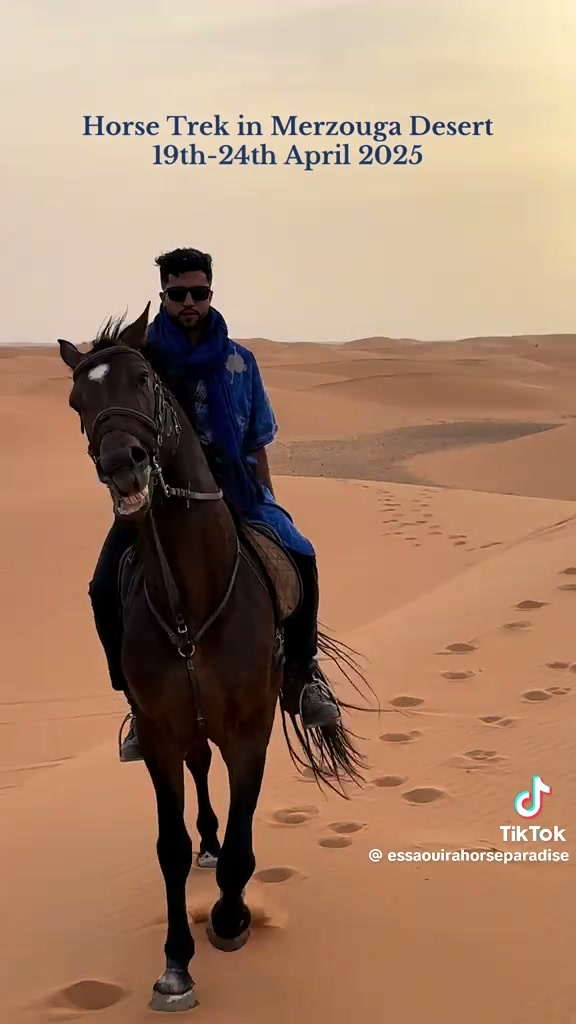animal_foot_print: (44, 979, 128, 1015), (448, 748, 507, 770), (270, 805, 319, 825), (253, 866, 304, 883), (521, 686, 570, 702), (402, 787, 446, 804), (379, 730, 420, 743), (326, 822, 365, 834), (438, 642, 476, 654), (479, 714, 514, 727), (389, 695, 423, 708), (371, 775, 407, 787), (318, 836, 352, 848), (442, 670, 475, 680), (514, 599, 547, 609), (502, 620, 531, 631), (546, 661, 570, 669), (480, 541, 501, 549), (559, 566, 575, 575), (557, 583, 575, 591)
